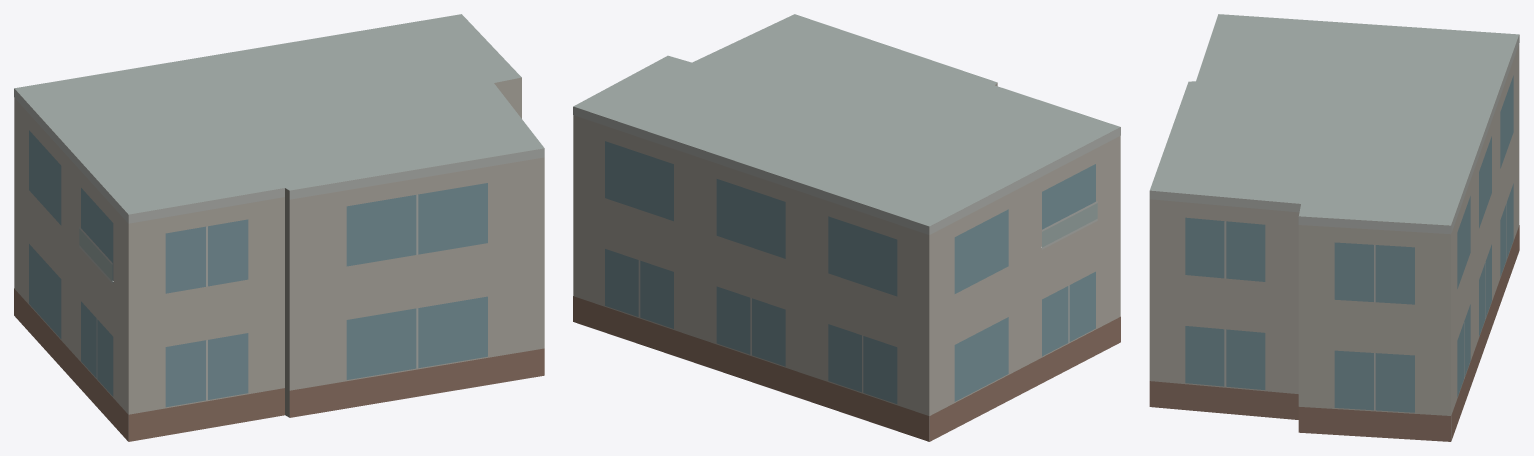
The model's file is survey-upis-32494312.glb.
3 renders of one model, left to right at view 1: azimuth 30°, elevation 25°; view 2: azimuth 150°, elevation 25°; view 3: azimuth 270°, elevation 25°, orthographic. The views are drawn at different scales.
Visible parts, largest first — view 1: survey-upis-32494312.tmp; view 2: survey-upis-32494312.tmp; view 3: survey-upis-32494312.tmp.
Boxes of the visible parts, <box> form: survey-upis-32494312.tmp: <box>14,14,544,441</box>; survey-upis-32494312.tmp: <box>573,14,1120,441</box>; survey-upis-32494312.tmp: <box>1149,14,1519,441</box>.
Bounding box in the file's own units: 12.81 × 6.1 × 9.46.
